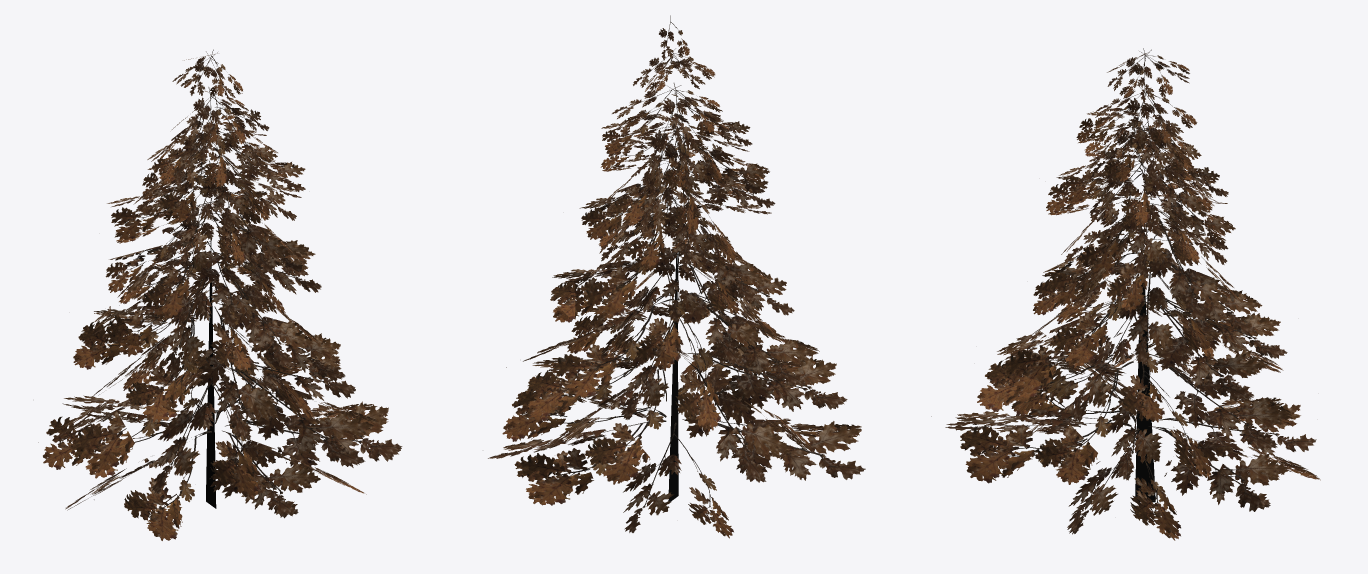
The model's file is spruce1 lod2.FBX.
3 views of the same model, side by side, from view 1: azimuth 30°, elevation 25°; view 2: azimuth 150°, elevation 25°; view 3: azimuth 270°, elevation 25° (orthographic).
Visible parts, largest first — view 1: spruce1_LOD2; view 2: spruce1_LOD2; view 3: spruce1_LOD2.
Part boxes in pixels (left/top/right/bottom): spruce1_LOD2: left=38, top=49, right=402, bottom=540; spruce1_LOD2: left=488, top=15, right=865, bottom=538; spruce1_LOD2: left=931, top=48, right=1320, bottom=540.
Size of the model in its own units: 42229 by 51509 by 42009.
